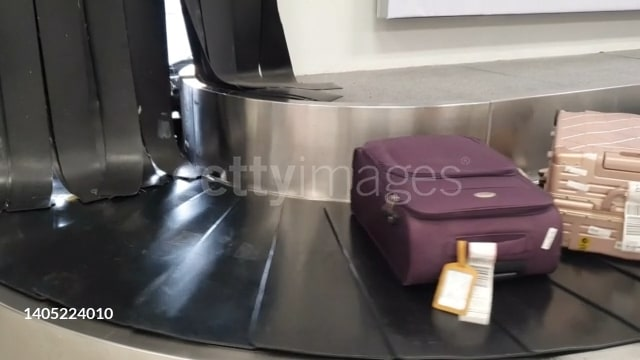baggage: (339, 129, 563, 302), (540, 104, 640, 269)
